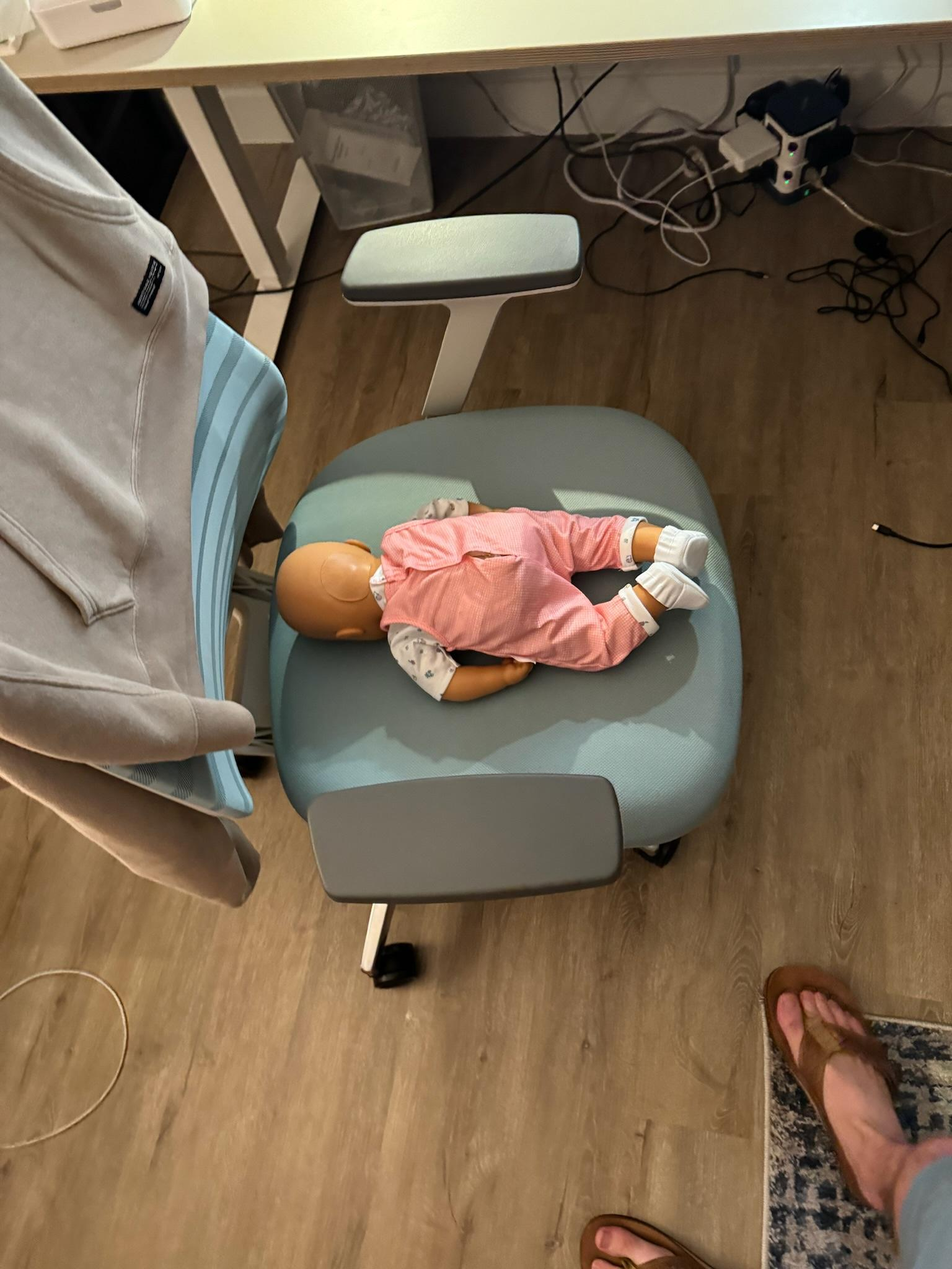baby: (264, 481, 717, 702)
